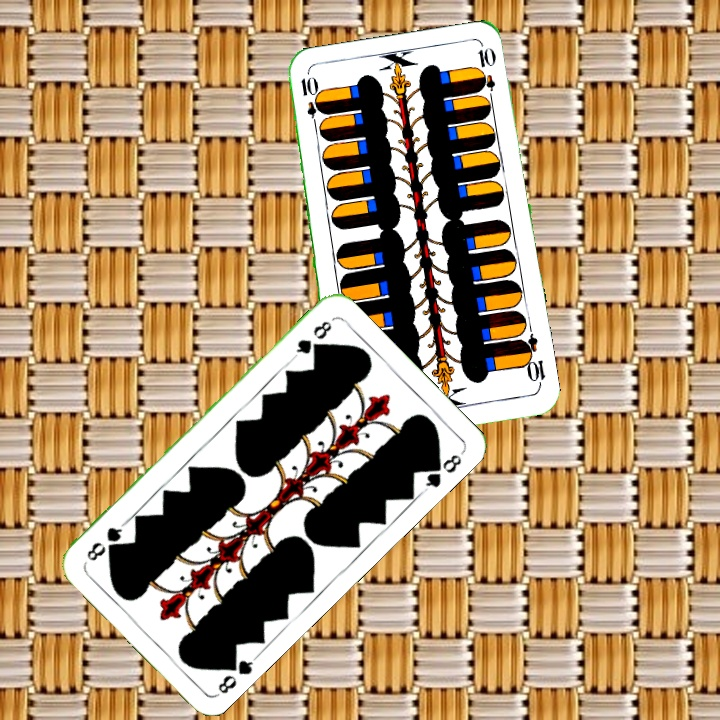E10: (516, 331, 548, 390), (296, 73, 322, 132)
G8: (213, 651, 260, 698), (289, 316, 335, 361)
